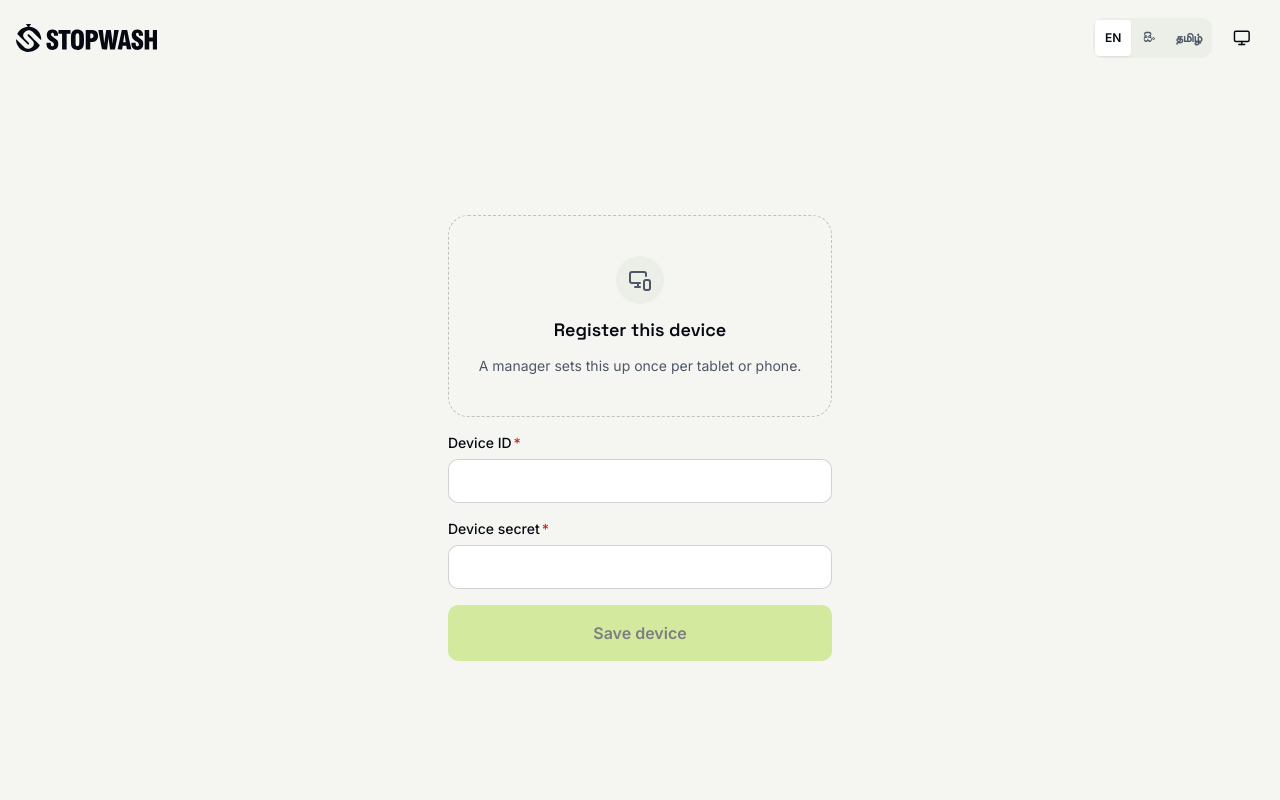
Test: SignInPage › asks to register the device first
Expected: the text "Register this device" is shown, [554,316,726,344]
Step 1. Type "dev-counter" into the field labelled "Device ID*" → (640, 481), box [448,459,832,503]
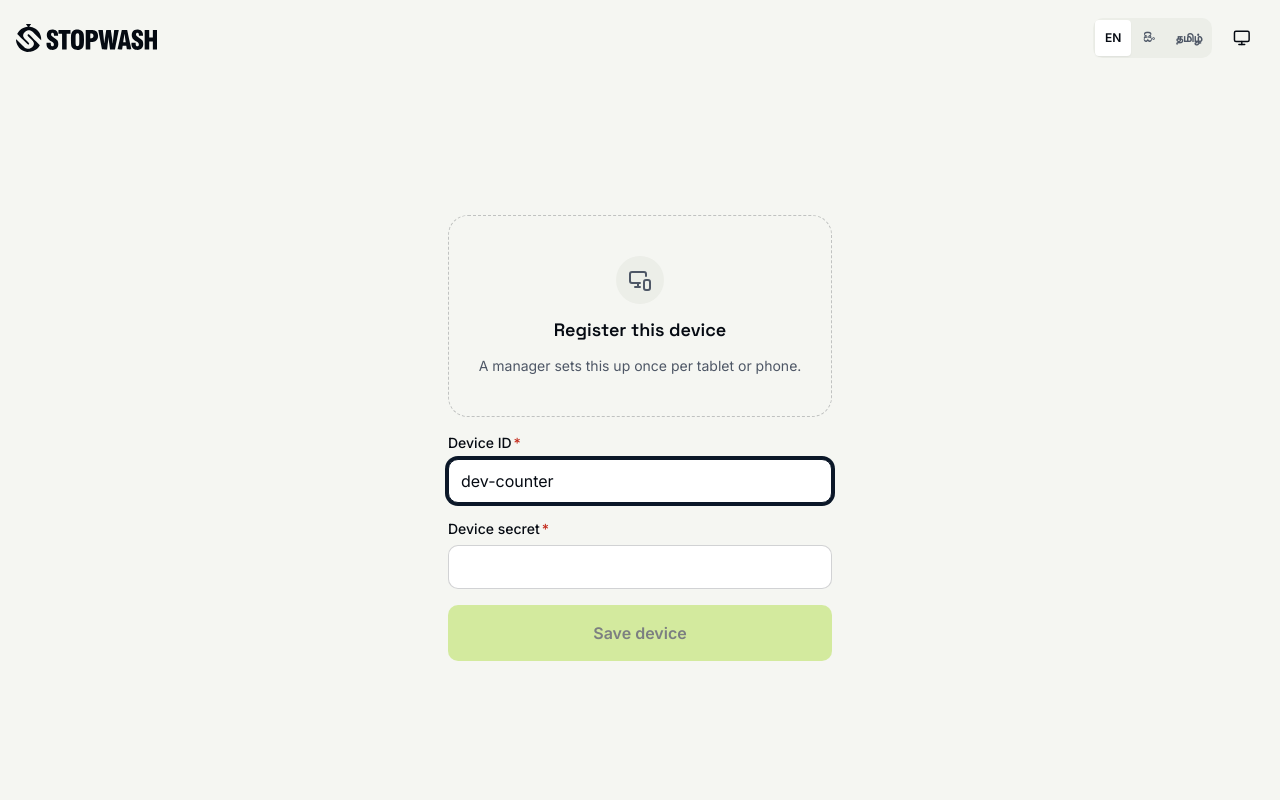
Step 2. Type "counter-secret-0123456789" into the password field labelled "Device secret*" → (640, 567), box [448,545,832,589]
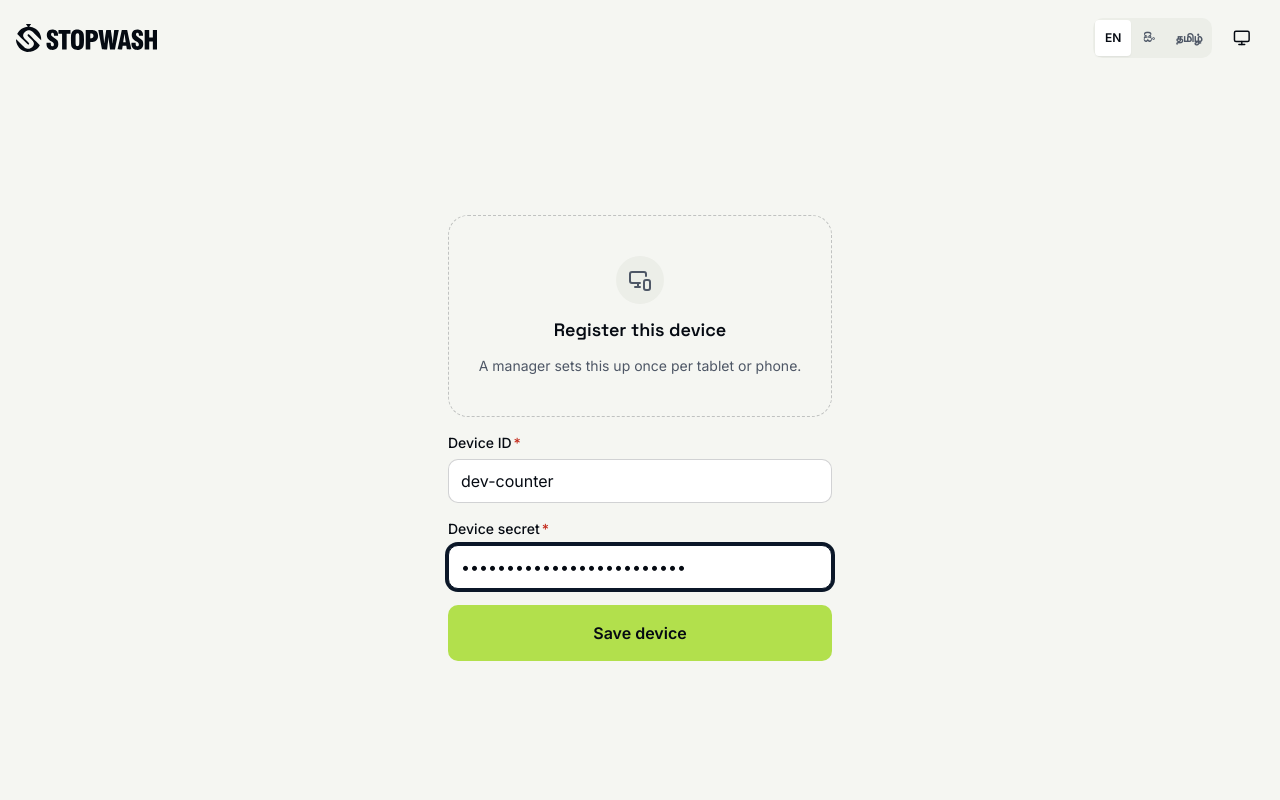
Step 3. Click the button "Save device" → (640, 633), box [448,605,832,661]
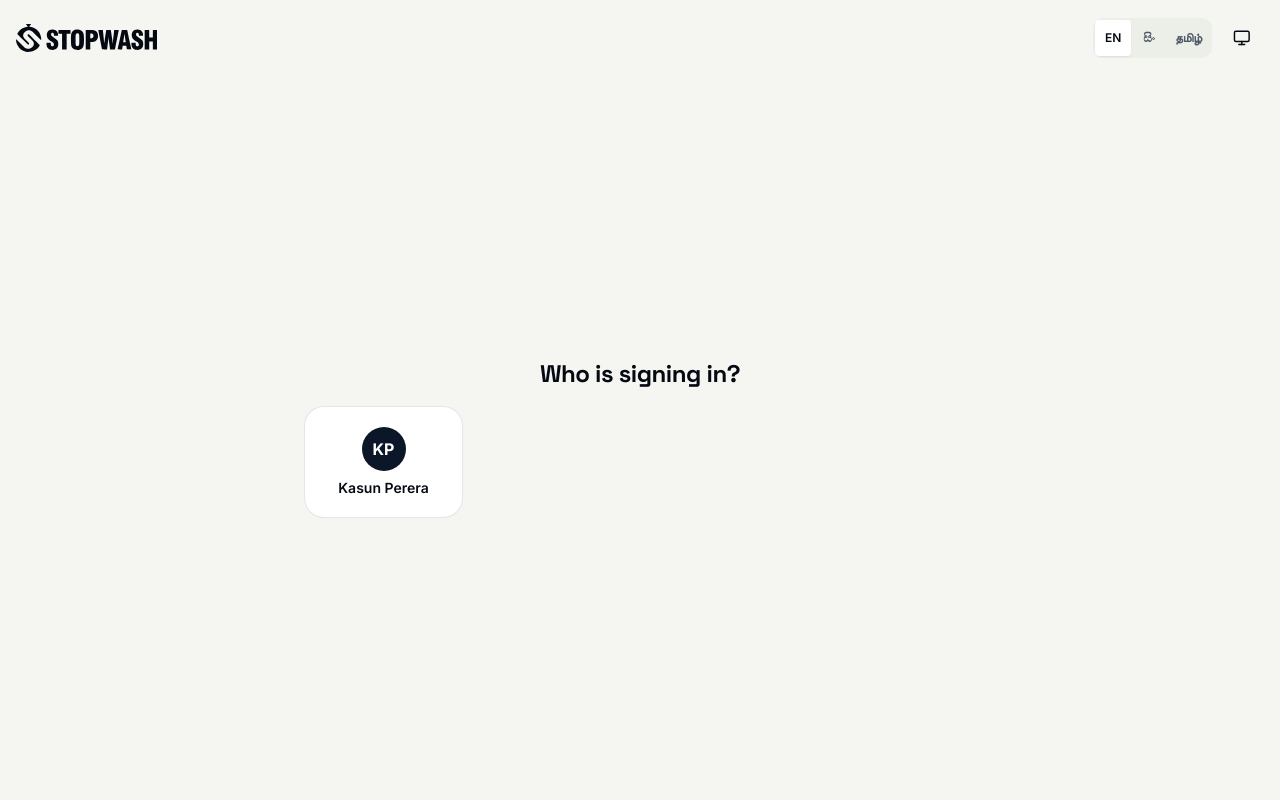
Expected: the text "Kasun Perera" is shown, [338,479,429,497]
